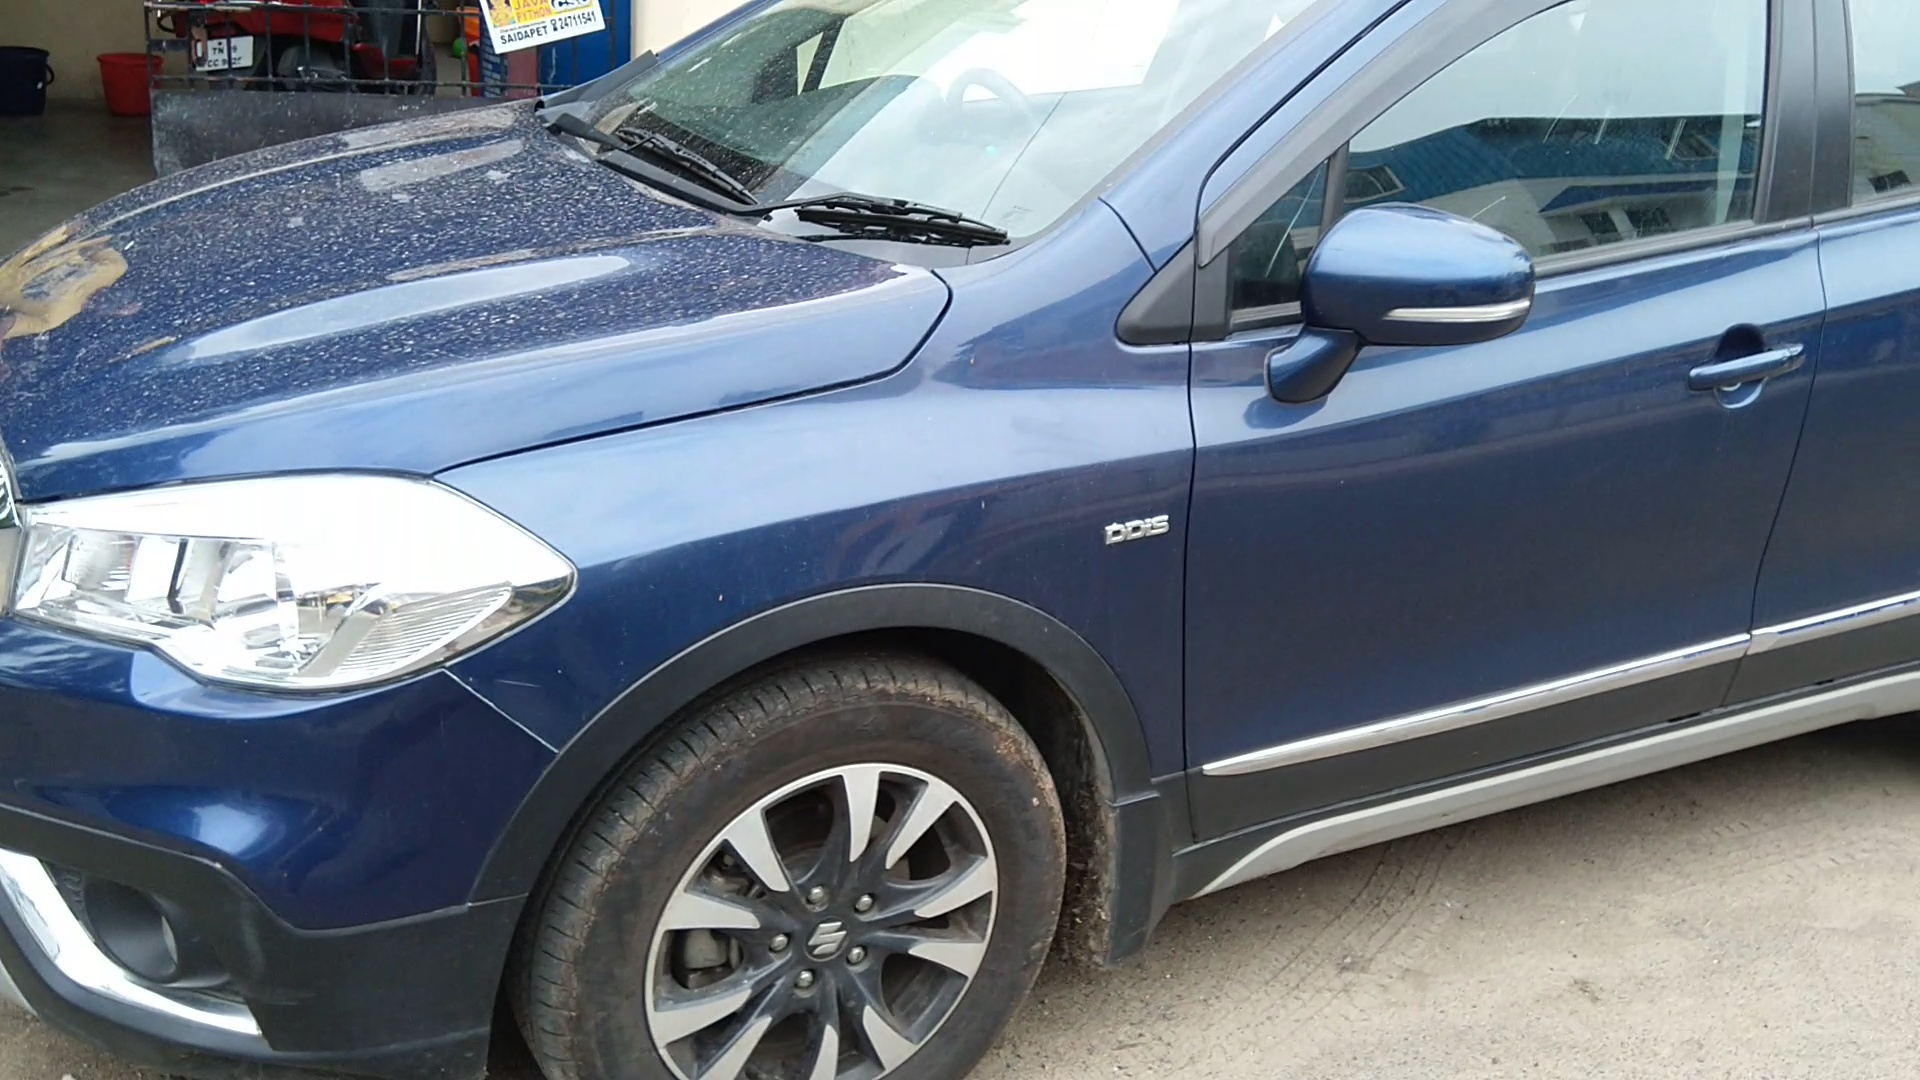alloy_wheel: (564, 666, 1055, 1080)
headlamp: (5, 443, 593, 737)
ovr_mirror: (1288, 185, 1549, 405)
